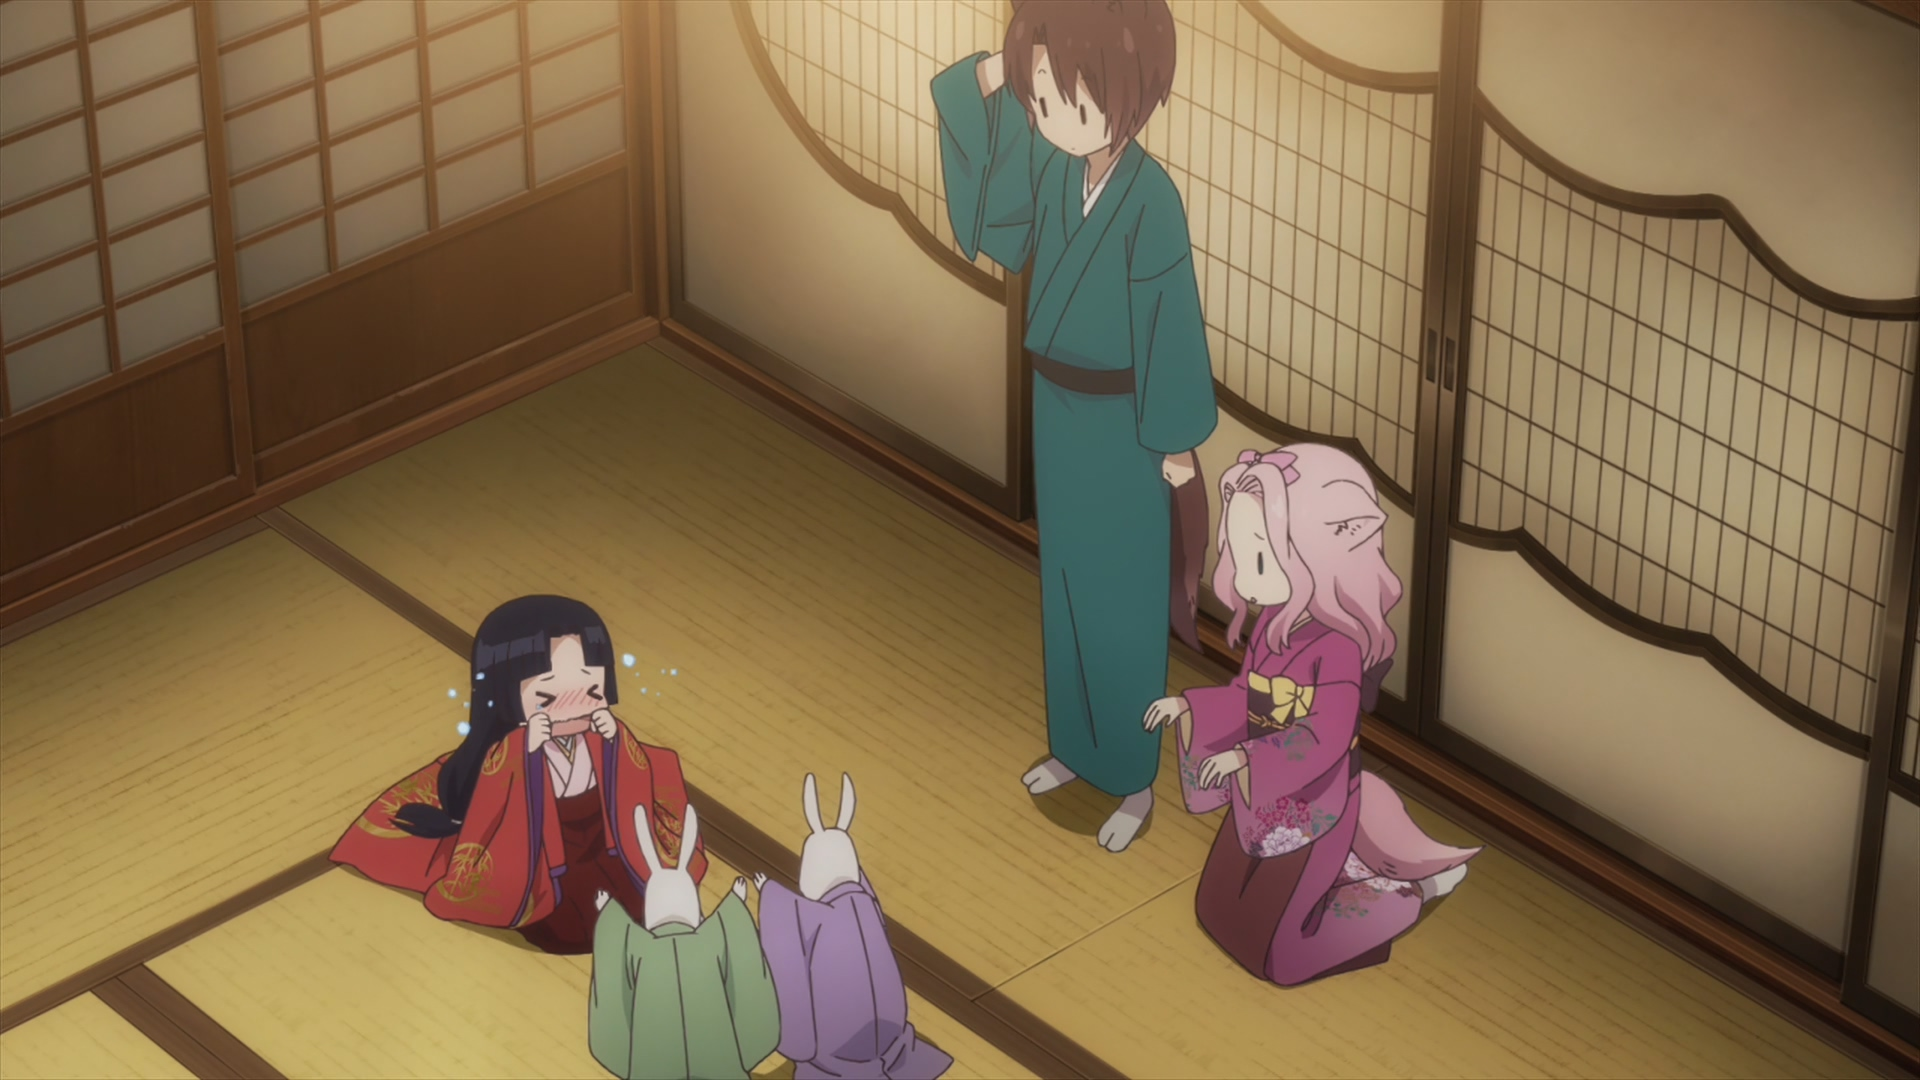其他: (334, 595, 708, 953), (753, 774, 953, 1080), (587, 806, 781, 1080)
枣: (930, 1, 1218, 852)
莲: (1145, 443, 1478, 992)
